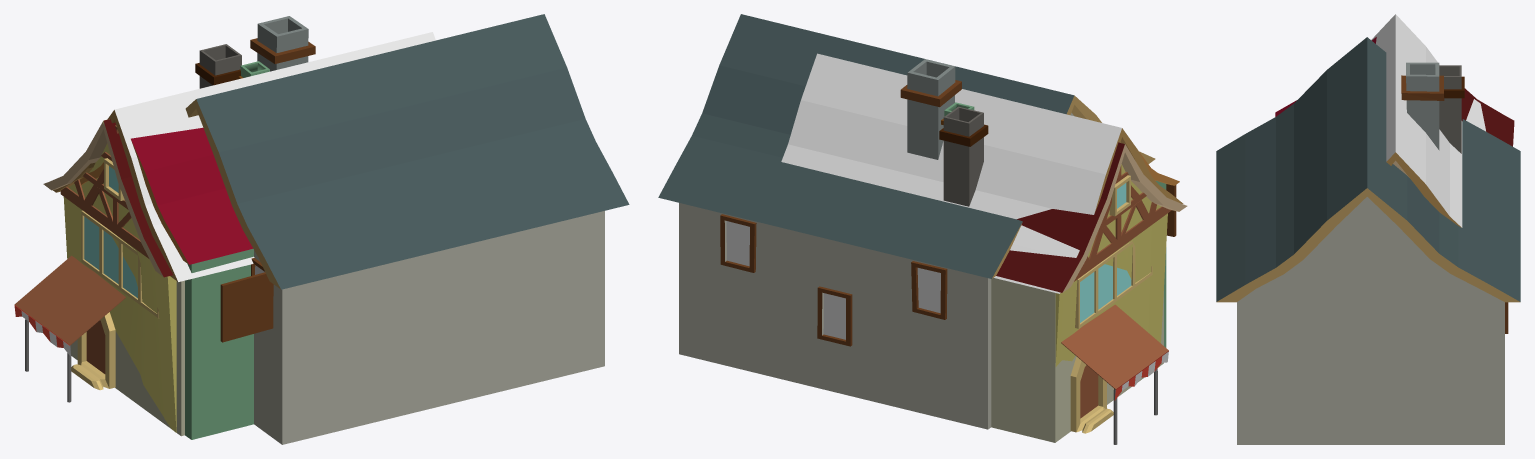
File: Evler.fbx
3 renders of one model, left to right at view 1: azimuth 30°, elevation 25°; view 2: azimuth 150°, elevation 25°; view 3: azimuth 270°, elevation 25°, orthographic. The views are drawn at different scales.
Parts seen in each view (by area): view 1: Plane.002, Cube.007, anaformyedek, Cube.011; view 2: Plane.002, Cube.007, Cube.011, anaformyedek; view 3: Plane.002, Cube.007, Cube.011.
Boxes of the visible parts, box(x1,y1,x2,y2) form: Plane.002: box(185, 14, 629, 444); Cube.007: box(14, 32, 435, 436); anaformyedek: box(74, 61, 269, 439); Cube.011: box(43, 119, 176, 432); Plane.002: box(658, 14, 1176, 429); Cube.007: box(781, 53, 1183, 444); Cube.011: box(996, 142, 1187, 367); anaformyedek: box(941, 102, 1179, 347); Plane.002: box(1216, 37, 1520, 444); Cube.007: box(1371, 14, 1485, 227); Cube.011: box(1393, 88, 1514, 177).
Size of the model in its own units: 154 by 102 by 99.38.
